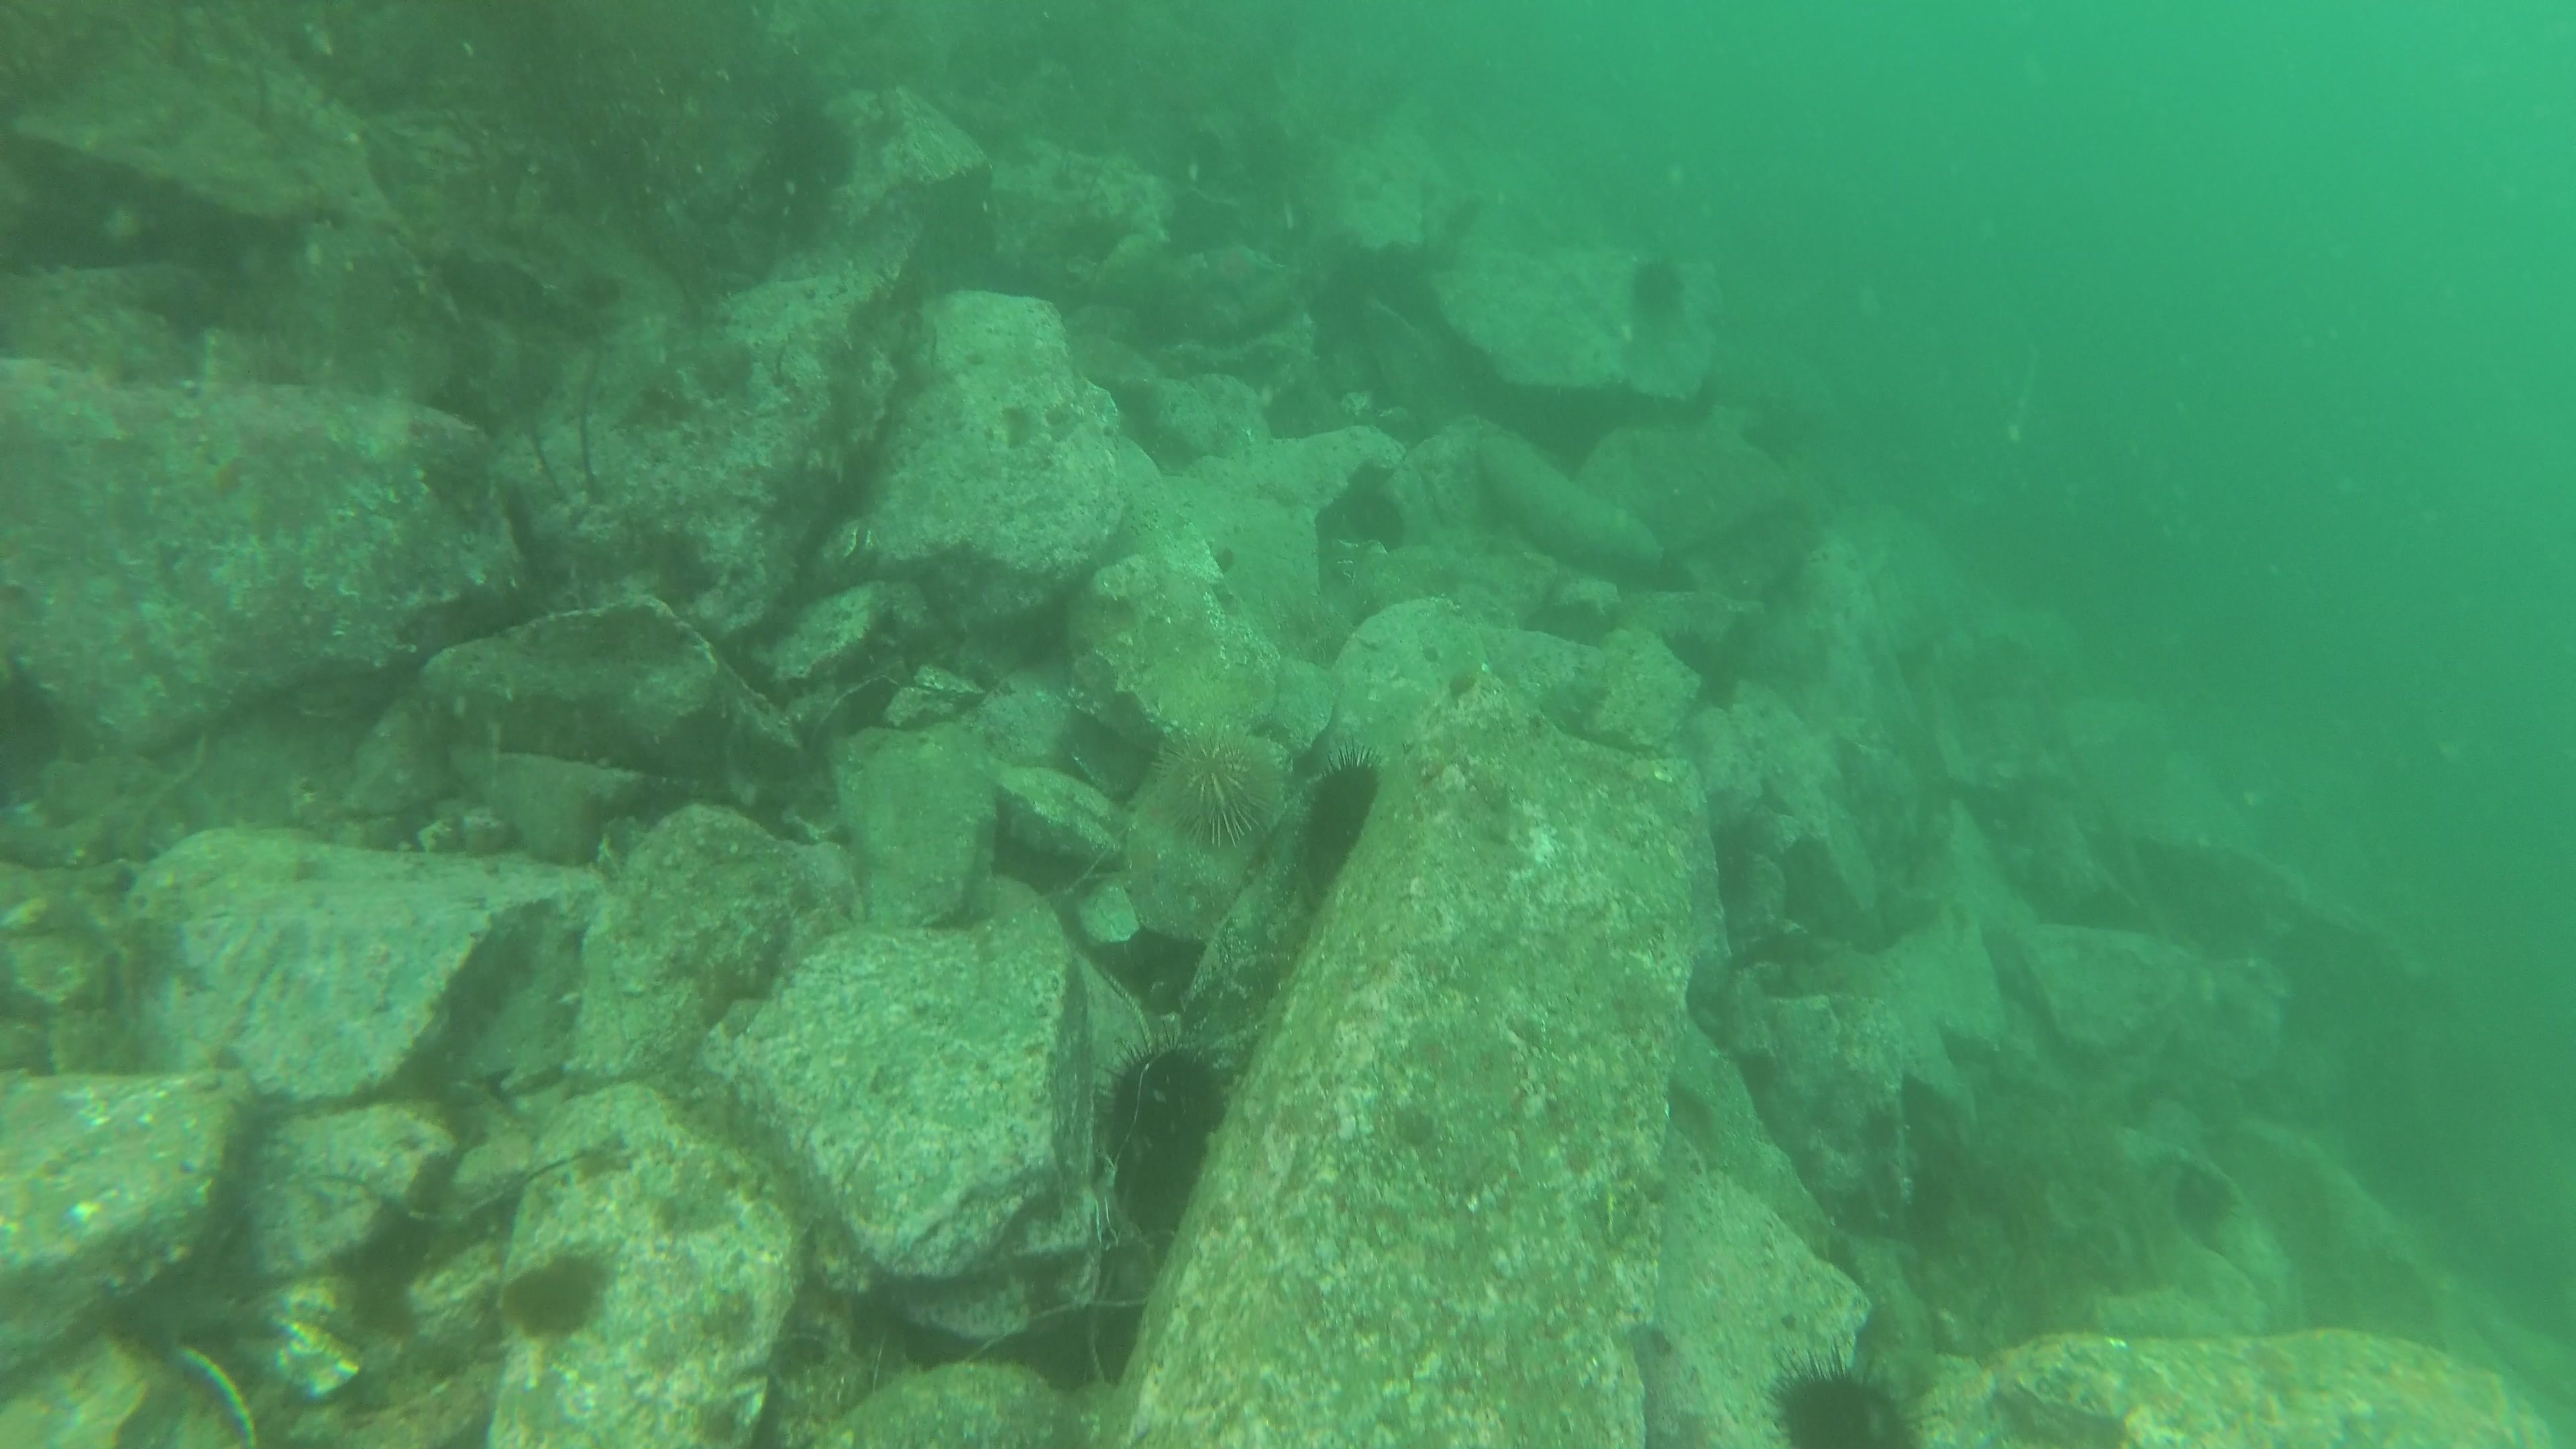echinus: (1100, 1037, 1235, 1180), (1141, 718, 1288, 849), (1764, 1352, 1923, 1445), (752, 97, 860, 219), (1293, 750, 1389, 881), (1619, 249, 1693, 334)
